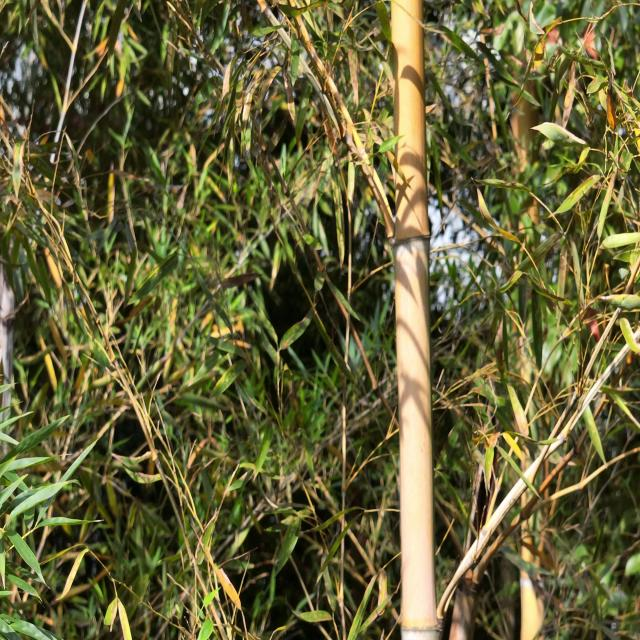Bamboo-shoots: (391, 0, 440, 640)
